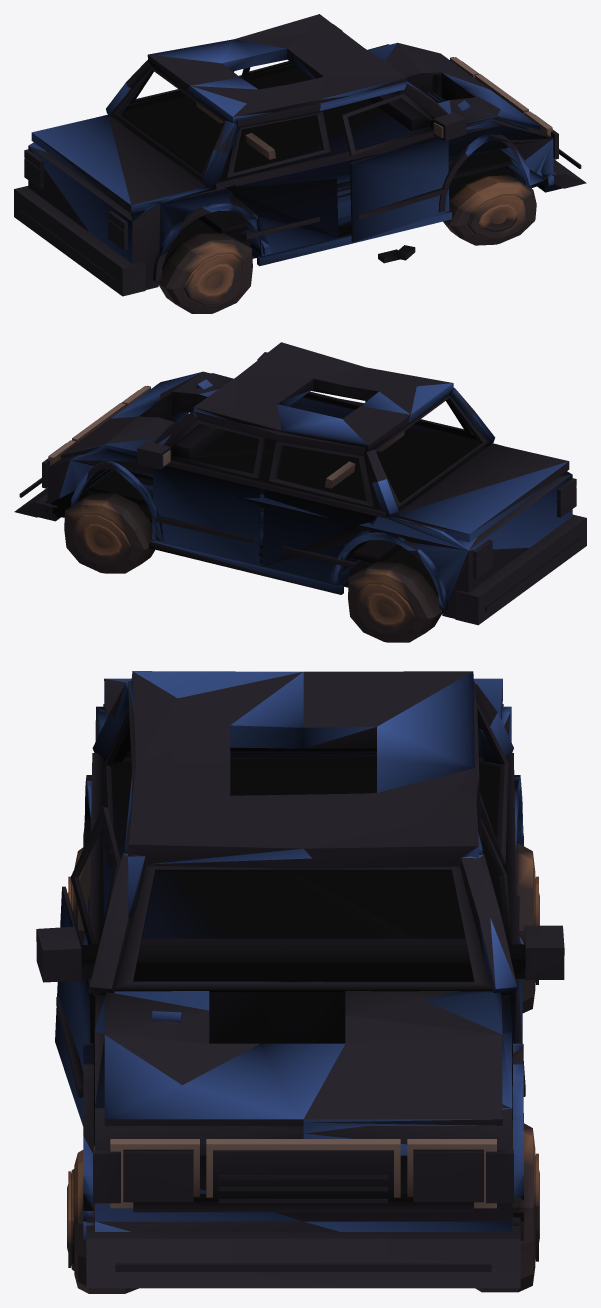
The model's file is veh.sedan-blue.burned.lod1.glb.
3 views of the same model, one above another, from view 1: azimuth 30°, elevation 25°; view 2: azimuth 150°, elevation 25°; view 3: azimuth 270°, elevation 25° (orthographic). The views are drawn at different scales.
Parts seen in each view (by area): view 1: body, wheelRL, wheelFL; view 2: body, wheelRR, wheelFR; view 3: body, wheelFR, wheelFL, wheelRR, wheelRL.
Part boxes in pixels (box(x1,y1,x2,y2)): body: box(14, 14, 586, 296); wheelRL: box(158, 233, 252, 313); wheelFL: box(443, 175, 536, 245); body: box(14, 342, 586, 625); wheelRR: box(348, 562, 442, 642); wheelFR: box(64, 492, 154, 573); body: box(36, 671, 564, 1288); wheelFR: box(475, 1120, 539, 1292); wheelFL: box(67, 1146, 138, 1293); wheelRR: box(515, 843, 539, 1013); wheelRL: box(68, 846, 90, 944).
Size of the model in its own units: 4.45 by 1.65 by 2.18.
